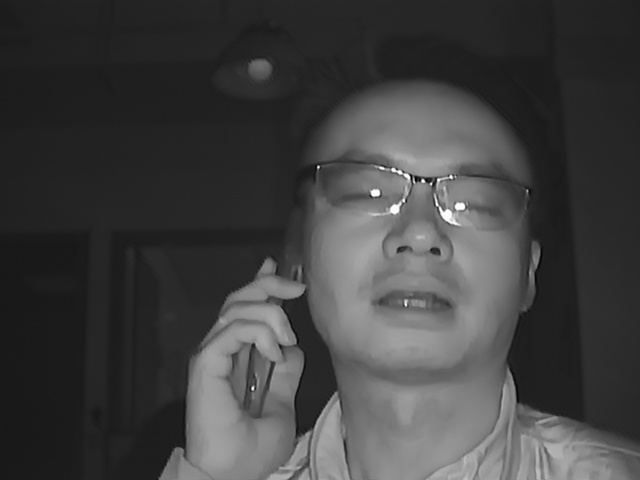hand: (174, 269, 313, 473)
